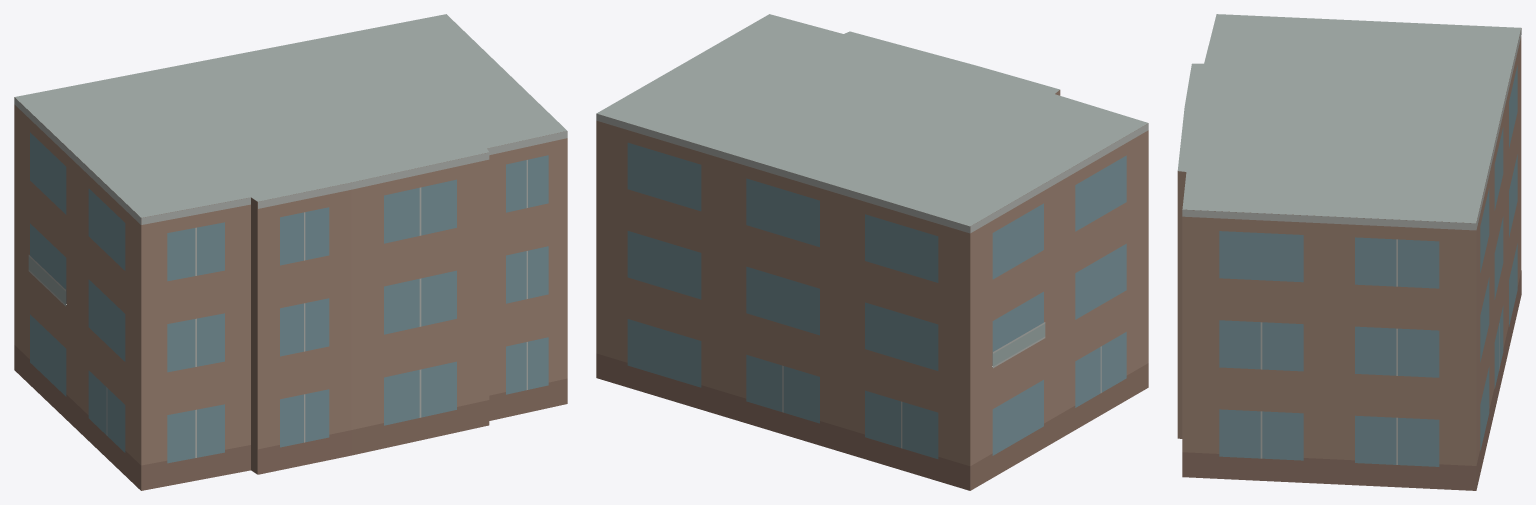
The model's file is survey-upis-32561143.glb.
3 renders of one model, left to right at view 1: azimuth 30°, elevation 25°; view 2: azimuth 150°, elevation 25°; view 3: azimuth 270°, elevation 25°, orthographic. The views are drawn at different scales.
Parts seen in each view (by area): view 1: survey-upis-32561143.tmp; view 2: survey-upis-32561143.tmp; view 3: survey-upis-32561143.tmp.
Part boxes in pixels (x1,y1,x2,y2): survey-upis-32561143.tmp: [14, 14, 567, 490]; survey-upis-32561143.tmp: [596, 14, 1148, 490]; survey-upis-32561143.tmp: [1177, 14, 1521, 490].
Size of the model in its own units: 15.37 by 9.15 by 10.66.
